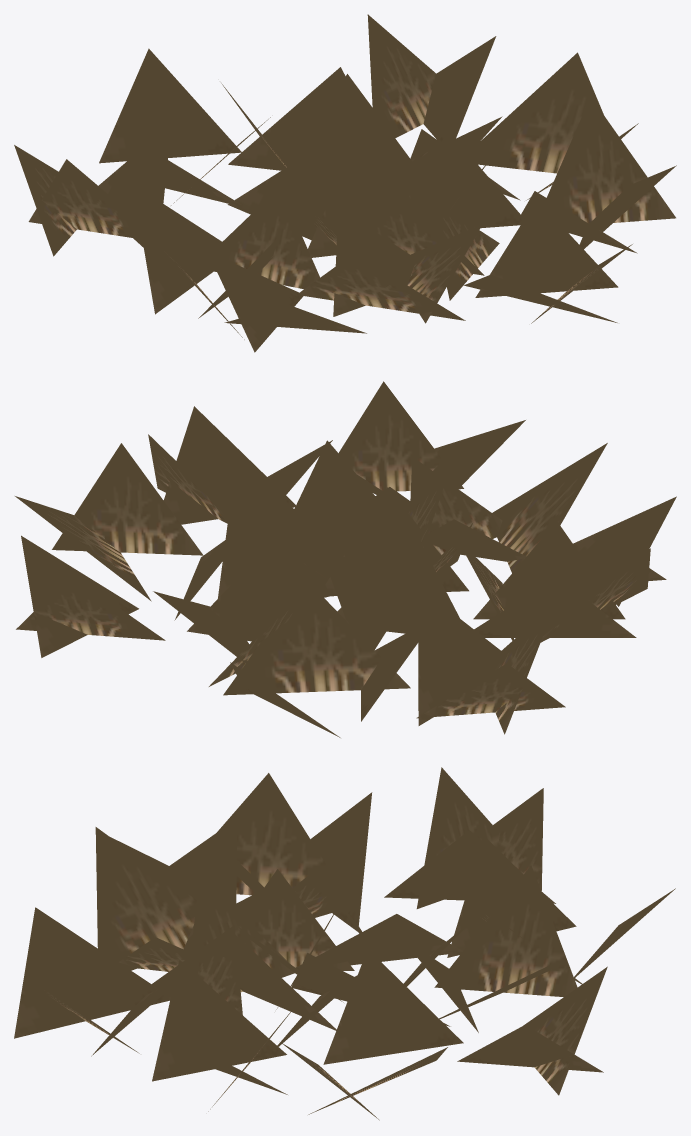
The model's file is dec_dry_grass_03_2867.glb.
3 views of the same model, one above another, from view 1: azimuth 30°, elevation 25°; view 2: azimuth 150°, elevation 25°; view 3: azimuth 270°, elevation 25° (orthographic). The views are drawn at different scales.
Parts seen in each view (by area): view 1: dry_grass_03_mesh; view 2: dry_grass_03_mesh; view 3: dry_grass_03_mesh.
Boxes of the visible parts, box(x1,y1,x2,y2) form: dry_grass_03_mesh: box(14, 14, 676, 352); dry_grass_03_mesh: box(15, 381, 676, 737); dry_grass_03_mesh: box(14, 767, 675, 1120).
Bounding box in the file's own units: 1.67 × 0.2919 × 1.77.
Materials: 1 (1 with a texture image).
